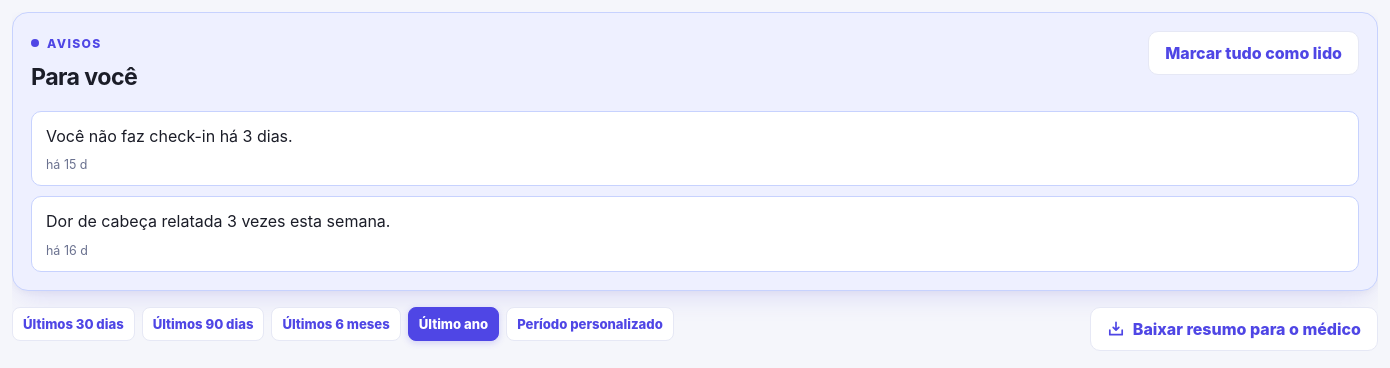
Test: avisos no dashboard do paciente › mostra os avisos não lidos e permite marcar tudo como lido
expect the text "Você não faz check-in há 3 dias." is shown: met, box [46,126,293,146]
expect the text "Dor de cabeça relatada 3 vezes esta semana." is shown: met, box [46,211,390,231]
Click the button "Marcar tudo como lido" at (1254, 53), box [1148,31,1359,75]
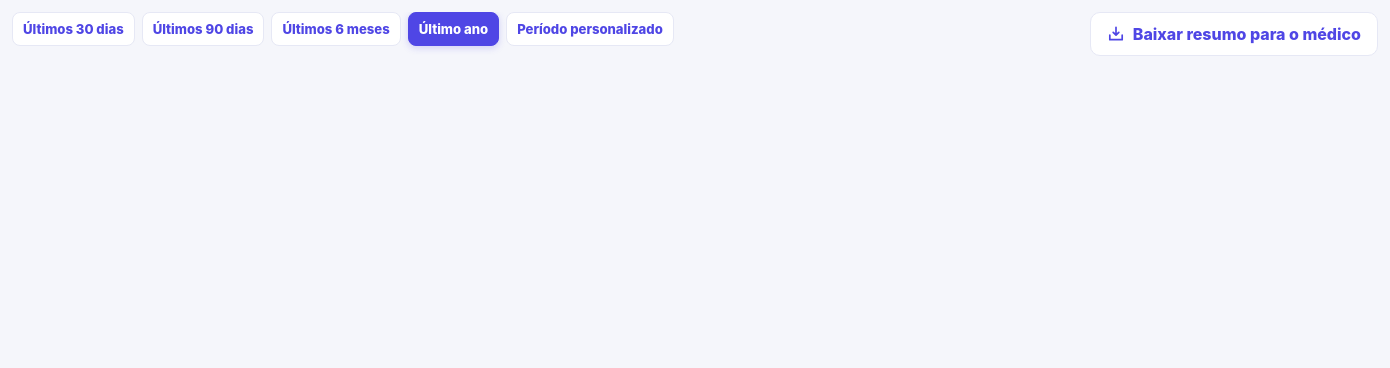
expect the text "Você não faz check-in há 3 dias." is gone: met
